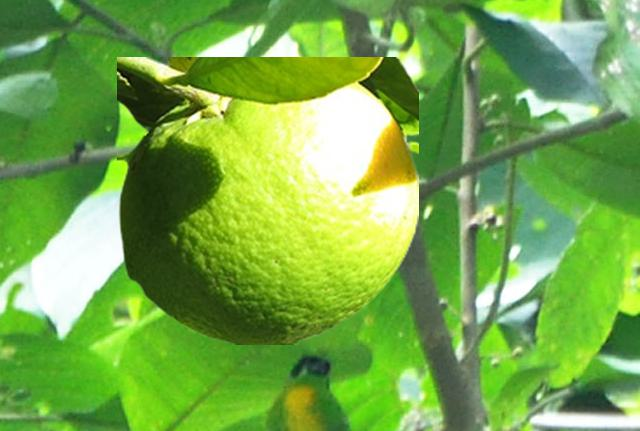dalandan: (117, 57, 417, 343)
